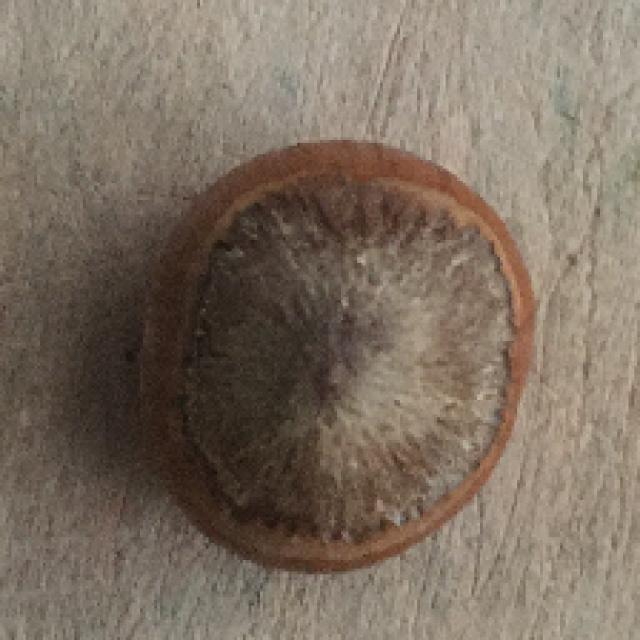qualityHazelnut: (134, 128, 546, 580)
